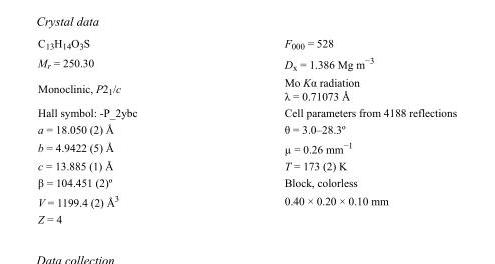table: (37, 36, 456, 224)
table column: (210, 36, 456, 224), (37, 36, 210, 224)
table row: (37, 73, 456, 103), (37, 52, 456, 73), (37, 137, 456, 157), (37, 190, 456, 210), (37, 103, 456, 120), (37, 120, 456, 137), (37, 173, 456, 190), (37, 36, 456, 52), (37, 157, 456, 173), (37, 210, 456, 224)
